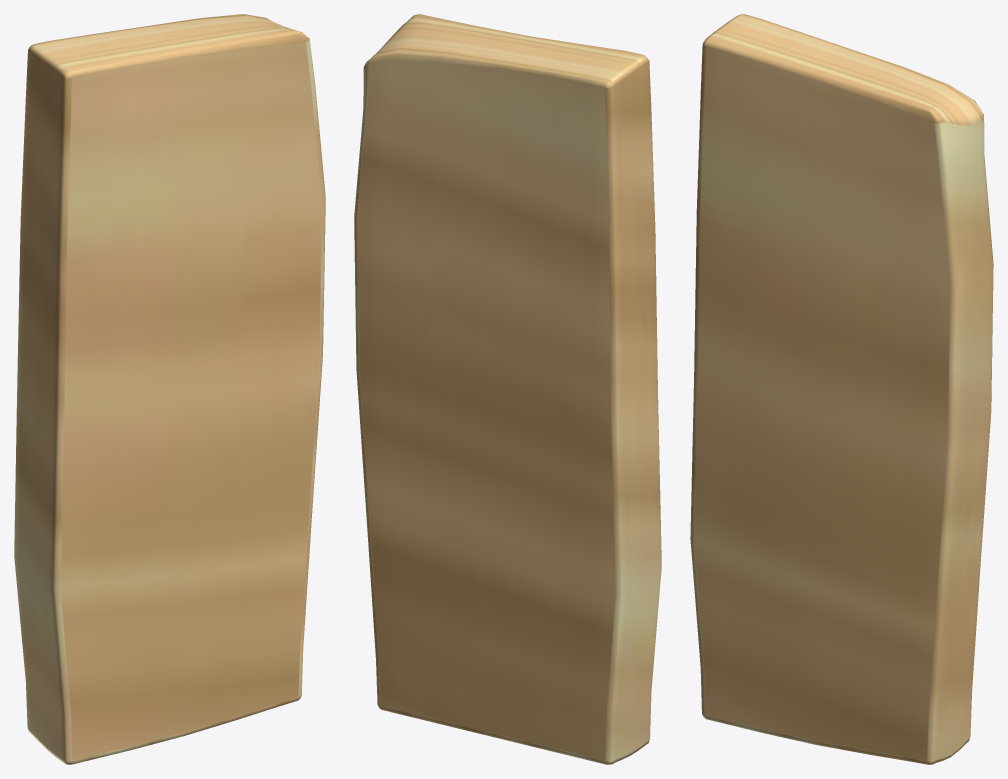
The model's file is SandTileTextures.fbx.
3 renders of one model, left to right at view 1: azimuth 30°, elevation 25°; view 2: azimuth 150°, elevation 25°; view 3: azimuth 330°, elevation 25°, orthographic. The views are drawn at different scales.
Visible parts, largest first — view 1: pCube1; view 2: pCube1; view 3: pCube1.
Part boxes in pixels (x1,y1,x2,y2): pCube1: (14, 14, 325, 764); pCube1: (354, 14, 661, 764); pCube1: (690, 14, 993, 764).
Bounding box in the file's own units: 0.5787 × 1.4 × 0.1722.
1 material, 1 textured.
